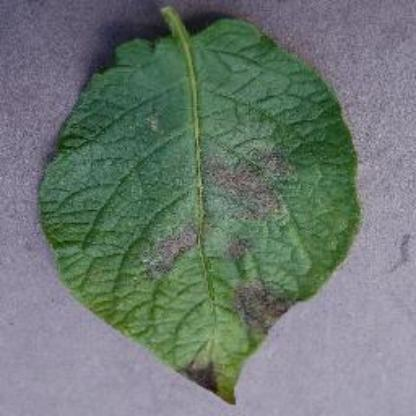Late-Blight: (41, 6, 373, 406)
